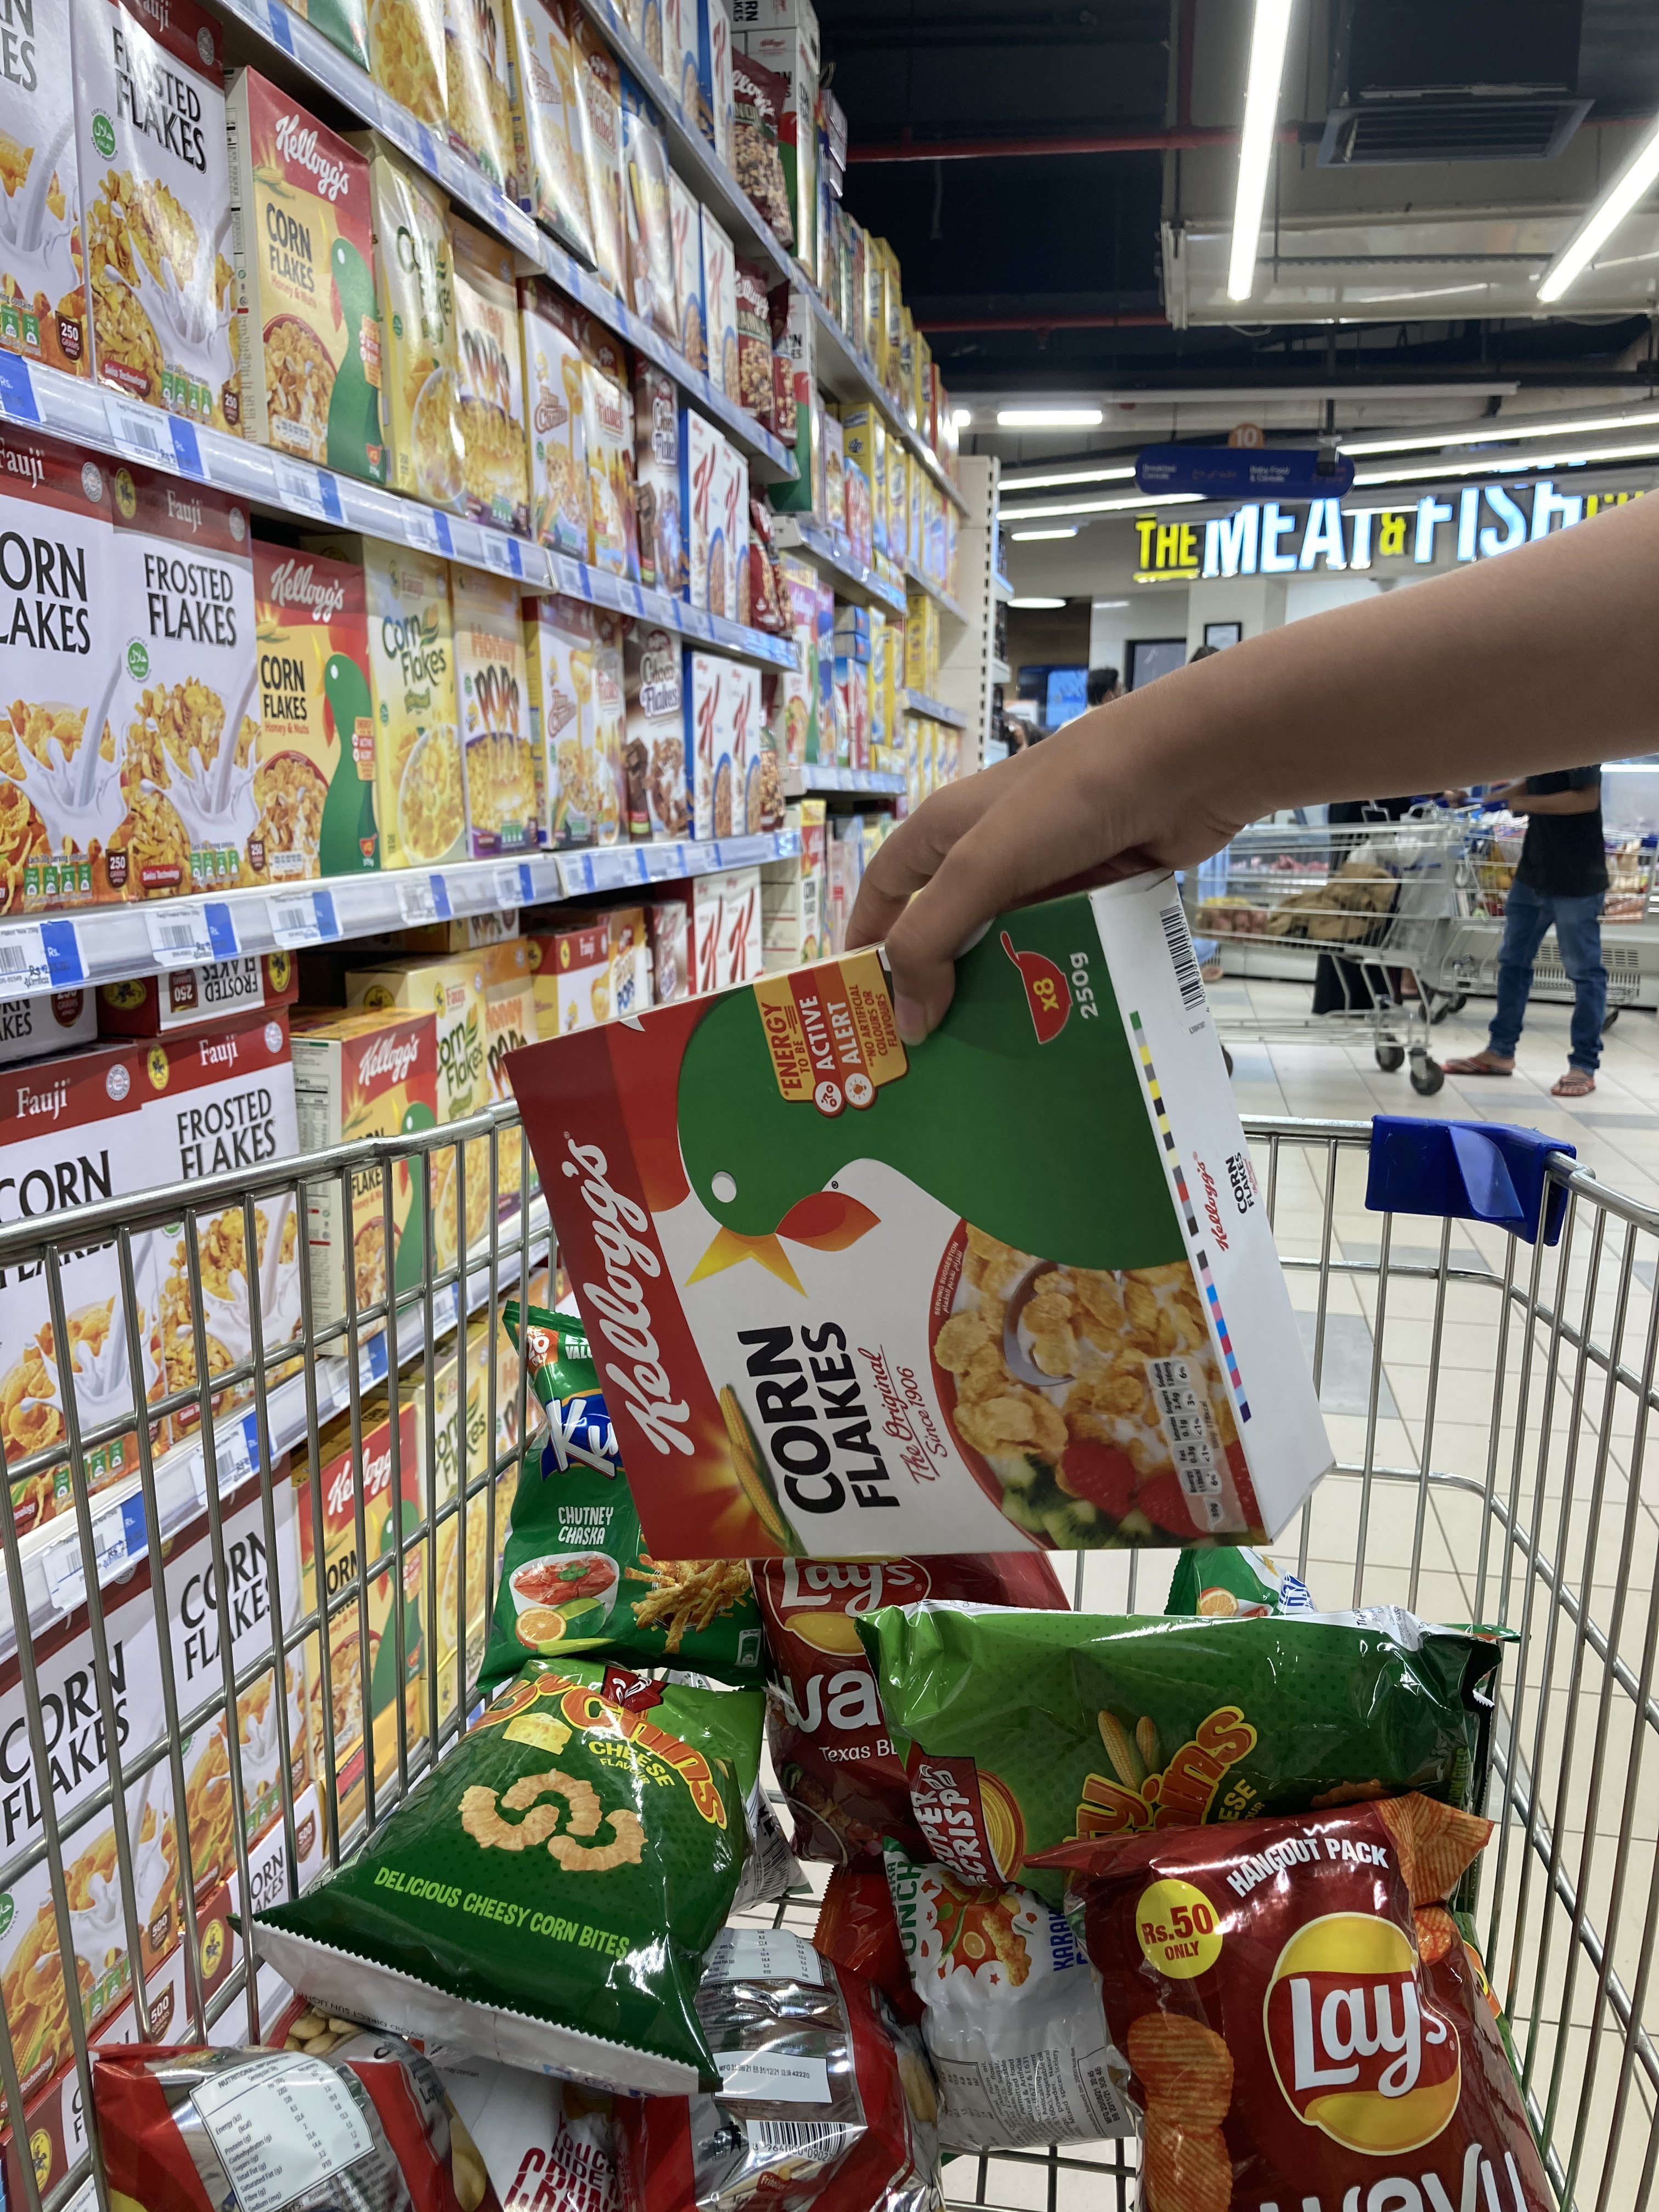Kellogg's Corn Flakes: (495, 873, 1342, 1562)
